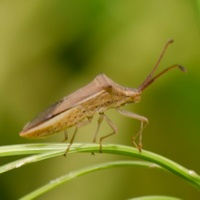insect: (20, 40, 185, 155)
